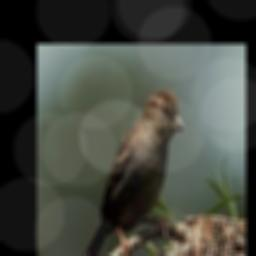Sparrow: (74, 87, 184, 256)
